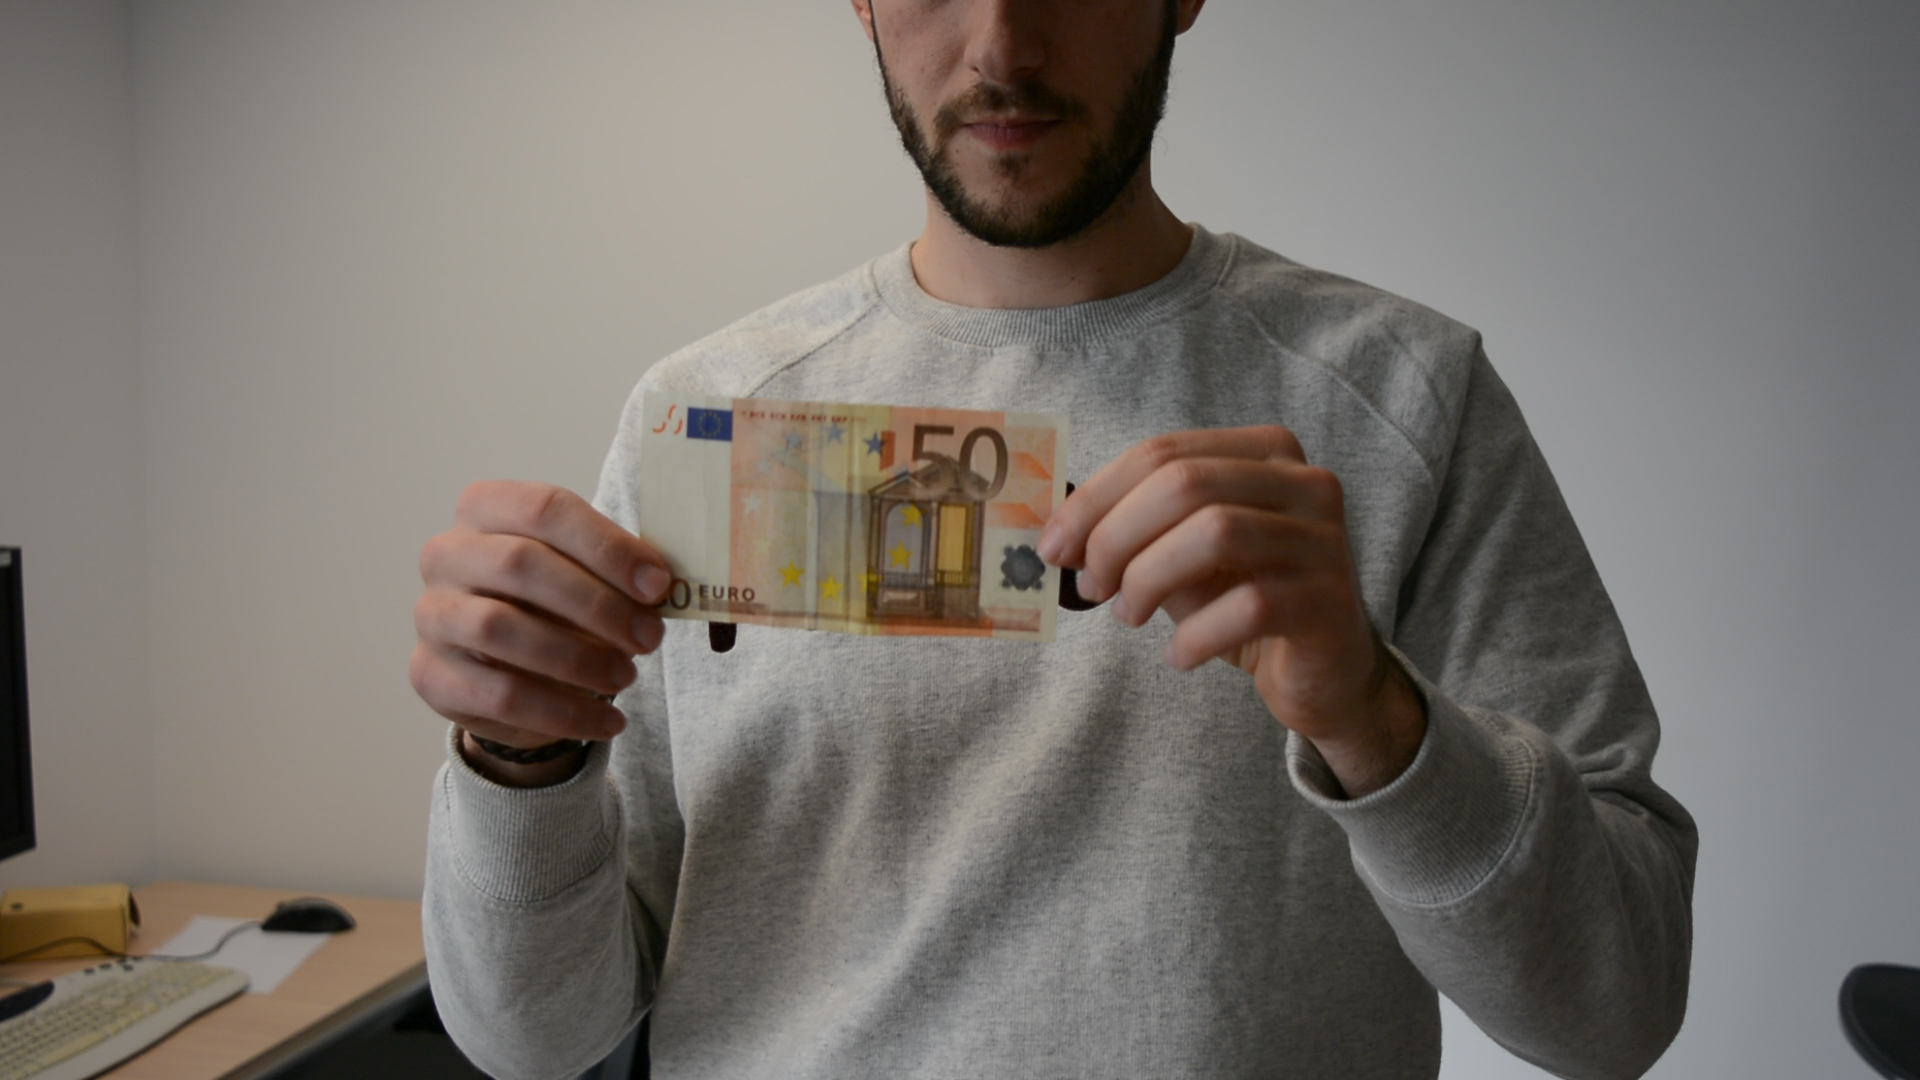billete: (640, 389, 1071, 646)
